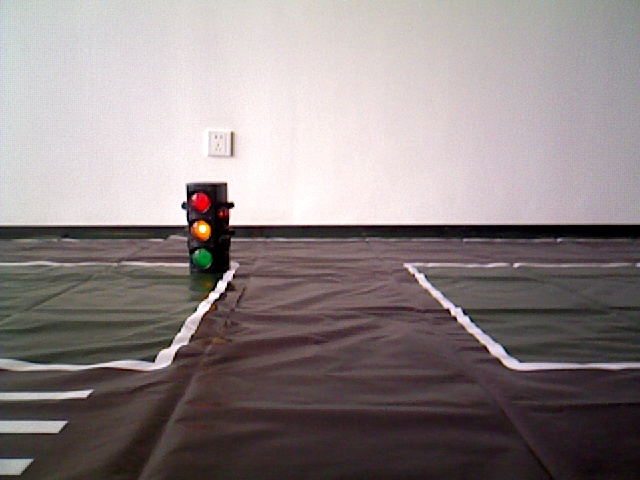yellow: (184, 180, 233, 273)
